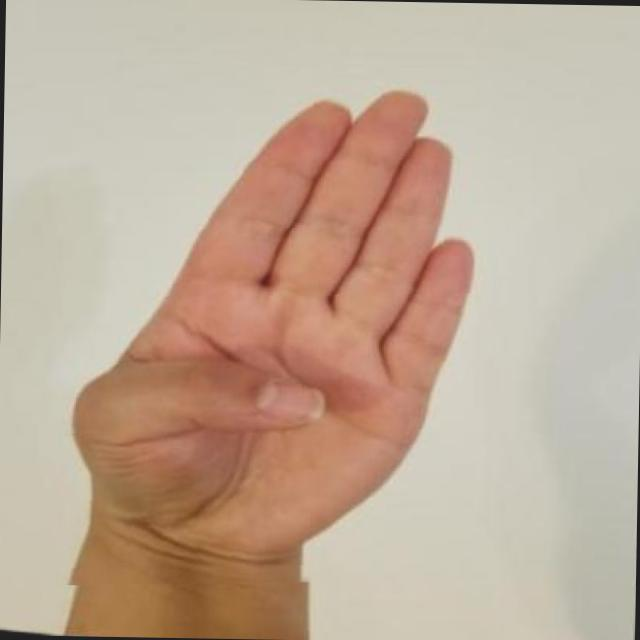B: (52, 61, 504, 594)
